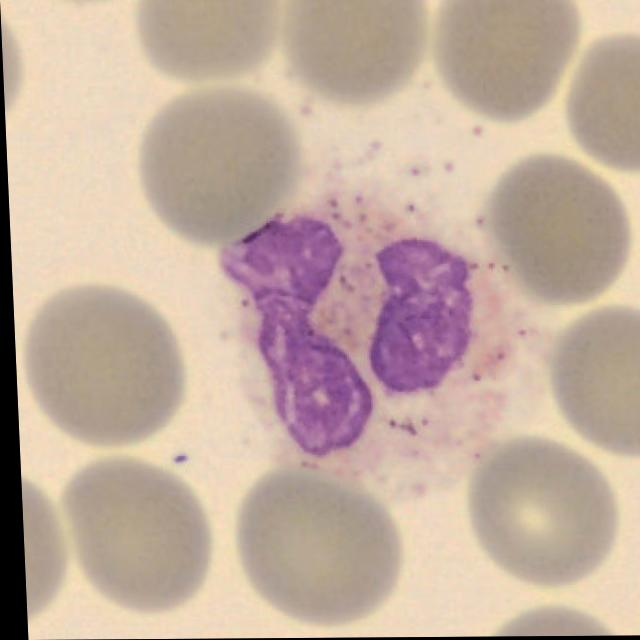Neutrofilo segmentado: (217, 170, 538, 503)
